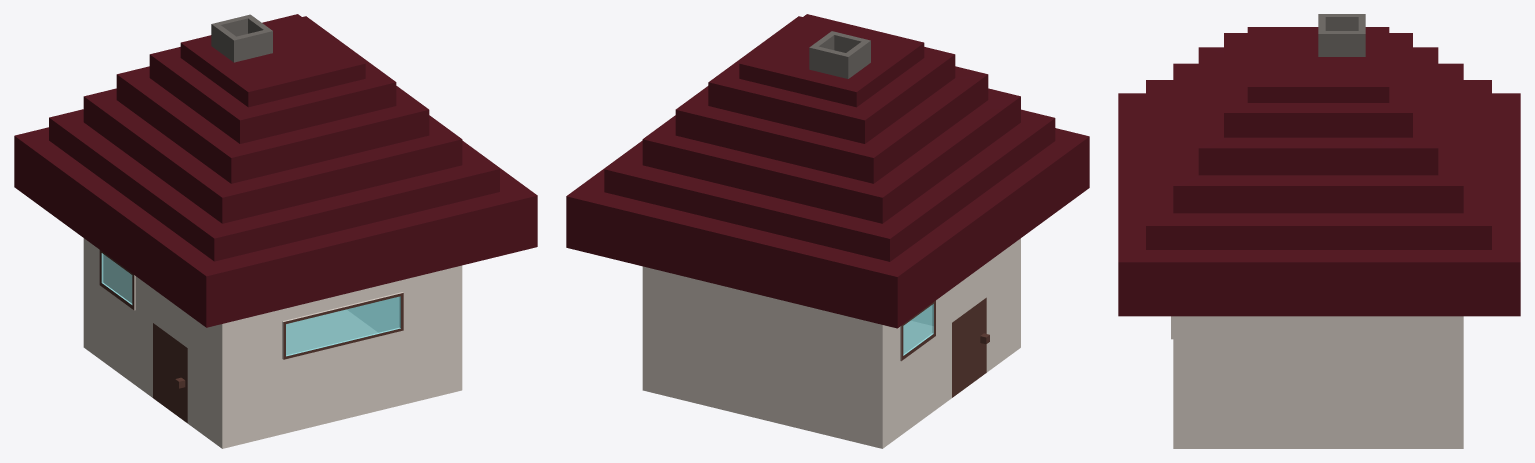
File: house.fbx
The picture shows the model from 3 angles, left to right: view 1: azimuth 30°, elevation 25°; view 2: azimuth 150°, elevation 25°; view 3: azimuth 270°, elevation 25°; orthographic projection. The views are drawn at different scales.
Visible parts, largest first — view 1: Cube; view 2: Cube; view 3: Cube.
Boxes of the visible parts, bbox=[...] form: Cube: bbox=[14, 14, 537, 448]; Cube: bbox=[566, 14, 1089, 448]; Cube: bbox=[1118, 14, 1520, 448].
Size of the model in its own units: 690 by 673 by 694.
